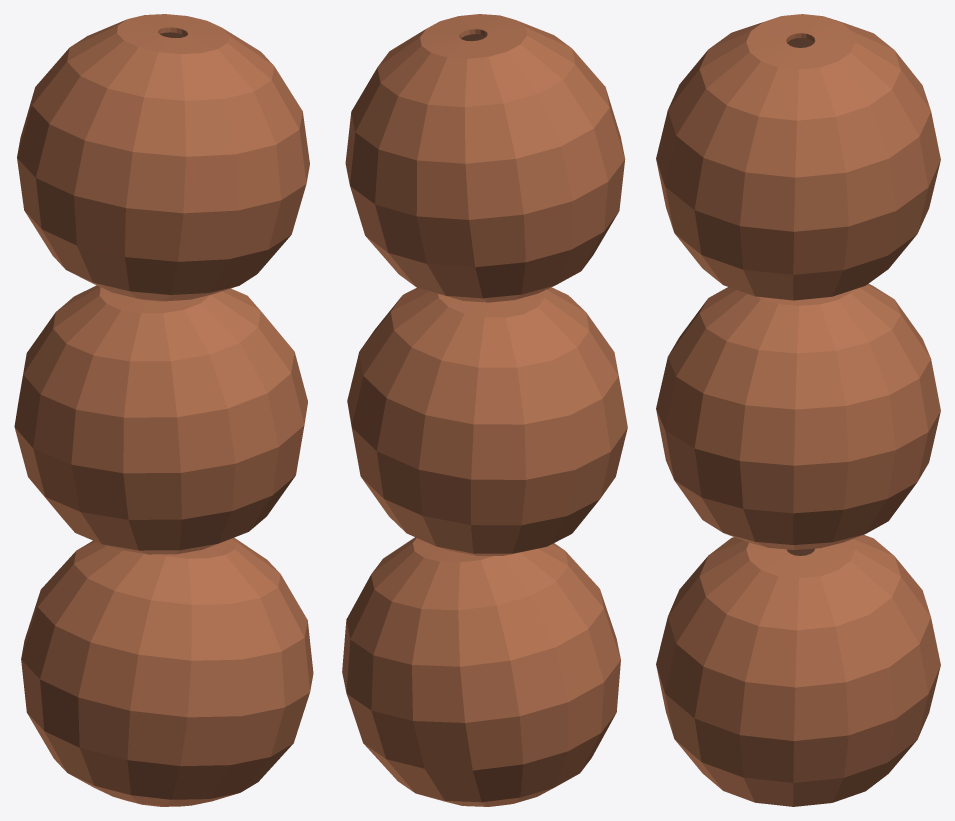
The model's file is coconut_pile_big1.glb.
3 views of the same model, side by side, from view 1: azimuth 30°, elevation 25°; view 2: azimuth 150°, elevation 25°; view 3: azimuth 270°, elevation 25° (orthographic).
Parts seen in each view (by area): view 1: CoconutPileBig1-col; view 2: CoconutPileBig1-col; view 3: CoconutPileBig1-col.
Part boxes in pixels (box(x1,y1,x2,y2)): CoconutPileBig1-col: box(14, 14, 313, 806); CoconutPileBig1-col: box(342, 14, 627, 806); CoconutPileBig1-col: box(656, 14, 940, 806).
Size of the model in its own units: 0.5199 by 1.47 by 0.5023.
Materials: 1 (1 with a texture image).
